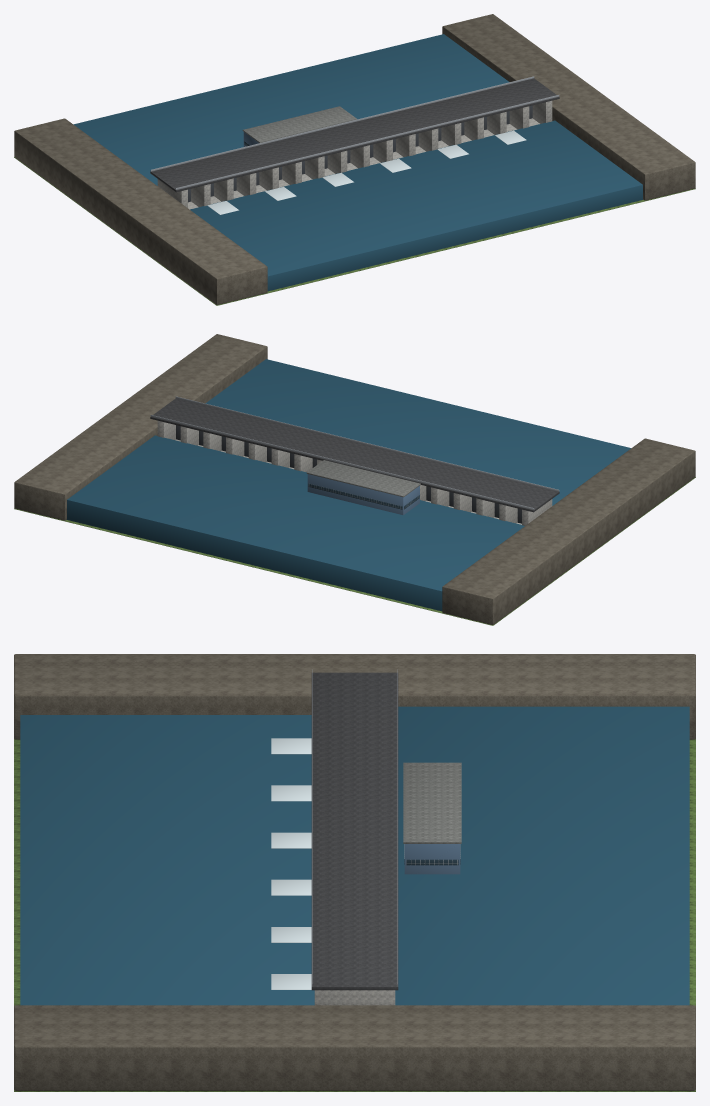
File: tidal-barrage-power-station.glb
The picture shows the model from 3 angles, top to bottom: view 1: azimuth 30°, elevation 25°; view 2: azimuth 150°, elevation 25°; view 3: azimuth 270°, elevation 25°; orthographic projection. The views are drawn at different scales.
Visible parts, largest first — view 1: Tidal_Barrage_Power_Station; view 2: Tidal_Barrage_Power_Station; view 3: Tidal_Barrage_Power_Station.
Boxes of the visible parts, left/top/right/bottom form: Tidal_Barrage_Power_Station: left=14, top=14, right=695, bottom=305; Tidal_Barrage_Power_Station: left=14, top=334, right=695, bottom=625; Tidal_Barrage_Power_Station: left=14, top=654, right=695, bottom=1091.
Size of the model in its own units: 300 by 24.5 by 220.
11 materials, 7 textured.
